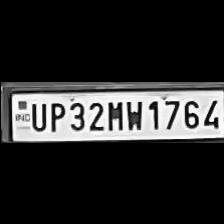1: (144, 96, 160, 130)
2: (84, 97, 104, 130)
3: (65, 97, 84, 130)
4: (200, 96, 220, 128)
6: (180, 95, 200, 129)
7: (160, 95, 178, 129)
M: (104, 97, 124, 130)
P: (46, 98, 64, 132)
U: (27, 99, 46, 131)
W: (123, 96, 143, 130)
